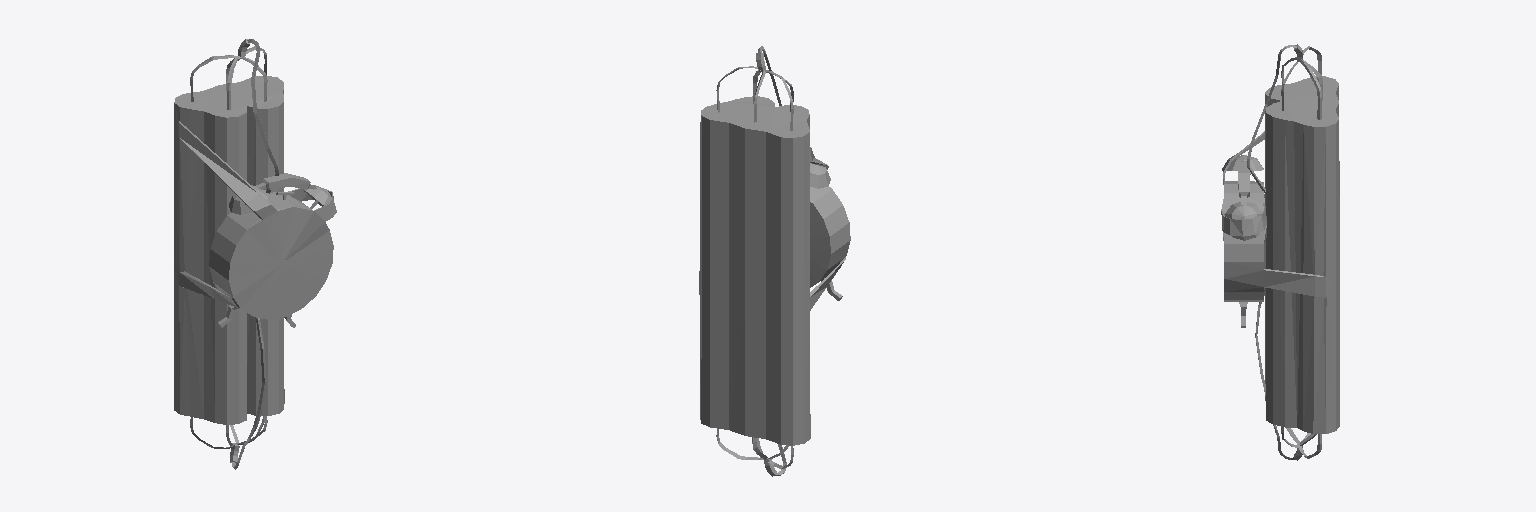
The model's file is Bomb.obj.
3 renders of one model, left to right at view 1: azimuth 30°, elevation 25°; view 2: azimuth 150°, elevation 25°; view 3: azimuth 270°, elevation 25°, orthographic.
Size of the model in its own units: 0.2106 by 0.7097 by 0.1812.